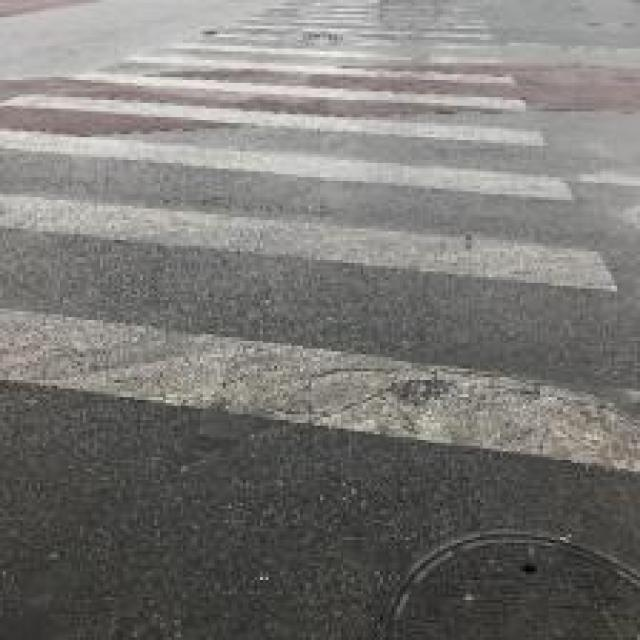walk-crossing: (150, 16, 533, 484)
